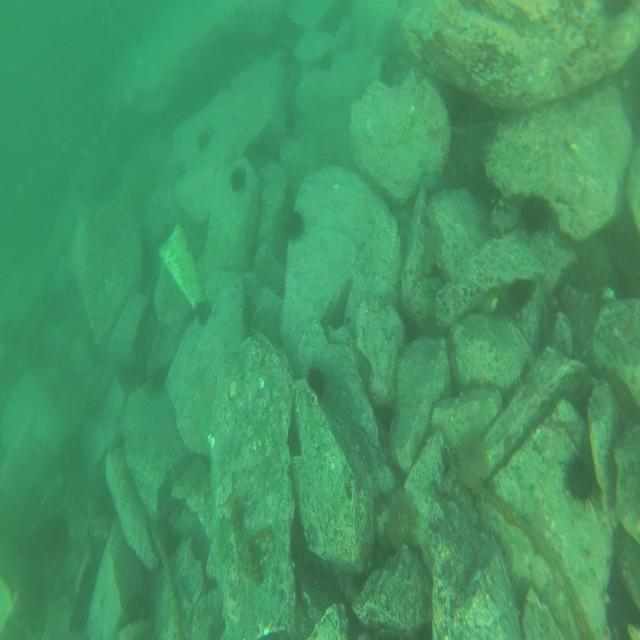echinus: (566, 438, 602, 504), (521, 192, 551, 236), (306, 362, 328, 397), (195, 297, 214, 328), (286, 210, 304, 242), (230, 167, 247, 192)
